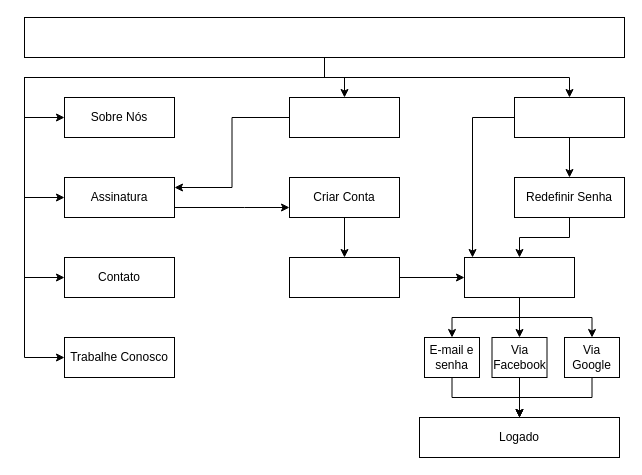
Some shapes in this 642 by 475 pixel diagram are drawn without their labels. Each missing label, with the centre of its shape:
"Entrar" goes at (569,117).
"Home" goes at (324,37).
"Login" goes at (519,277).
"Pagamento" goes at (344,277).
"Registrar-se" goes at (344,117).
